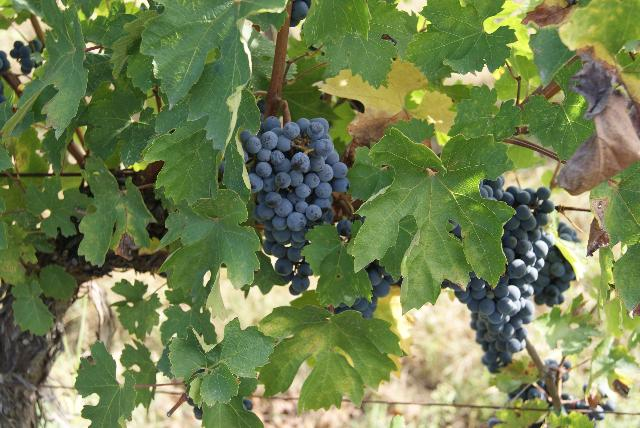grapes: (441, 175, 575, 374), (240, 116, 350, 295)
